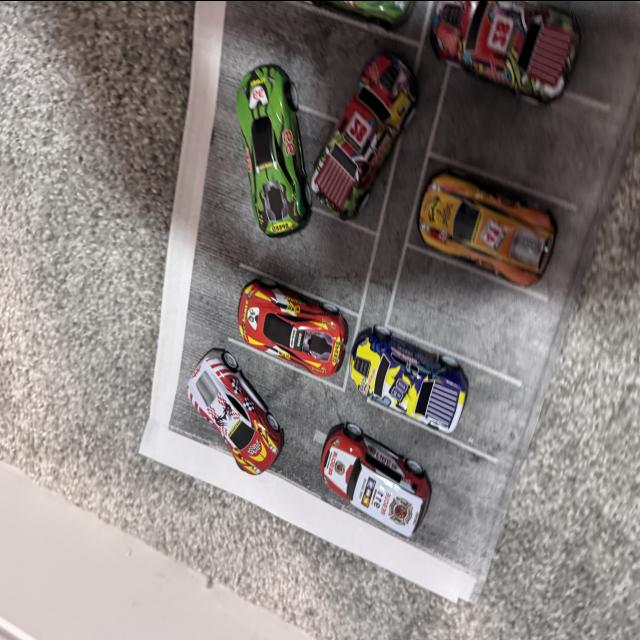Car: (232, 0, 336, 246), (304, 54, 449, 220), (232, 217, 336, 381), (324, 384, 429, 538), (472, 0, 568, 165), (362, 314, 462, 456), (182, 340, 270, 470), (397, 218, 576, 256)
